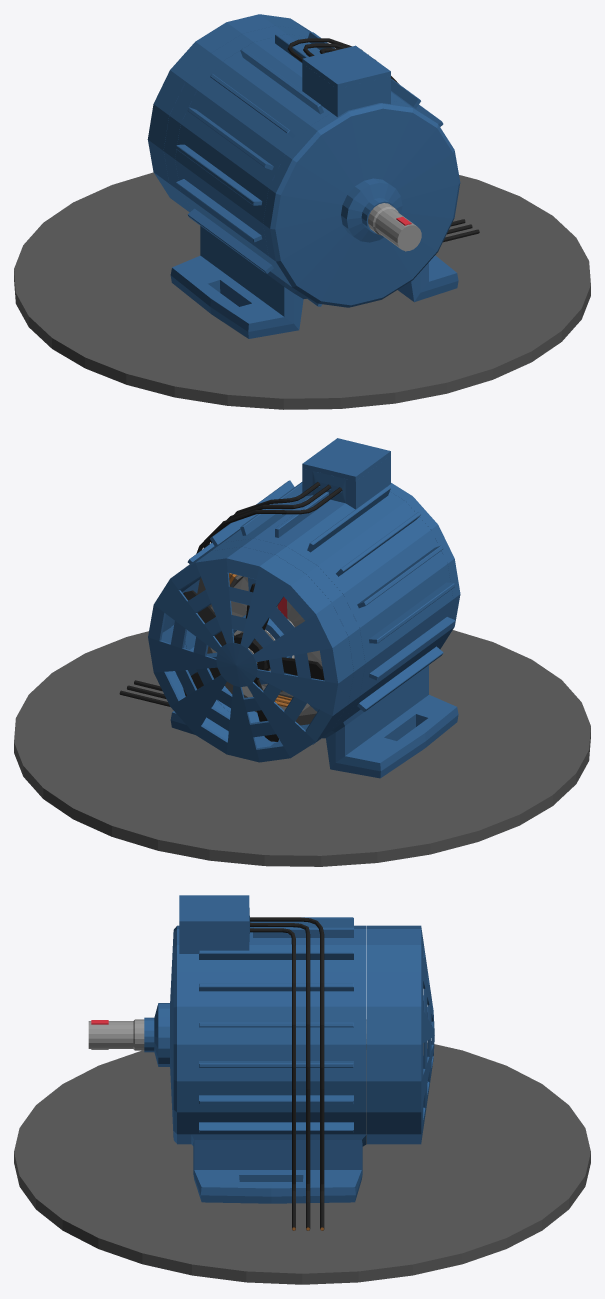
Rendered from motor.glb.
The picture shows the model from 3 angles, top to bottom: view 1: azimuth 30°, elevation 25°; view 2: azimuth 150°, elevation 25°; view 3: azimuth 270°, elevation 25°; orthographic projection.
Visible parts, largest first — view 1: platform, corpusMid, corpusFront, corpusBack, housingCover, rotorShaft, cablesInput; view 2: platform, corpusMid, corpusBack, housingCover, cablesInput, fan, corpusFront, rotorScage, stator; view 3: platform, corpusMid, corpusBack, corpusFront, cablesInput, housingCover, rotorShaft.
Part boxes in pixels (x1,y1,x2,y2): platform: (14, 172, 590, 409); corpusMid: (170, 32, 458, 338); corpusFront: (263, 100, 460, 307); corpusBack: (147, 14, 311, 212); housingCover: (302, 45, 390, 88); rotorShaft: (368, 203, 421, 251); cablesInput: (287, 38, 479, 242); platform: (14, 630, 590, 866); corpusMid: (170, 456, 458, 778); corpusBack: (148, 538, 365, 762); housingCover: (302, 438, 390, 481); cablesInput: (119, 482, 342, 706); fan: (183, 583, 324, 741); corpusFront: (388, 483, 460, 649); rotorScage: (231, 576, 322, 693); stator: (197, 574, 317, 725); platform: (14, 1043, 590, 1284); corpusMid: (179, 908, 366, 1203); corpusBack: (367, 925, 434, 1144); corpusFront: (144, 925, 191, 1144); cablesInput: (250, 917, 324, 1230); housingCover: (179, 895, 249, 925); rotorShaft: (88, 1019, 366, 1050).
Size of the model in its own units: 2.04 by 0.9935 by 2.04.
